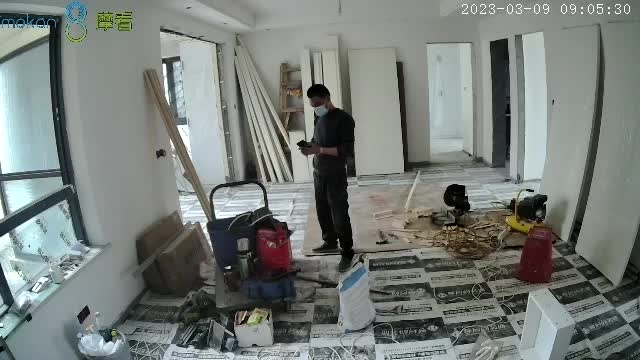people: (298, 84, 354, 271)
window: (1, 16, 85, 332)
